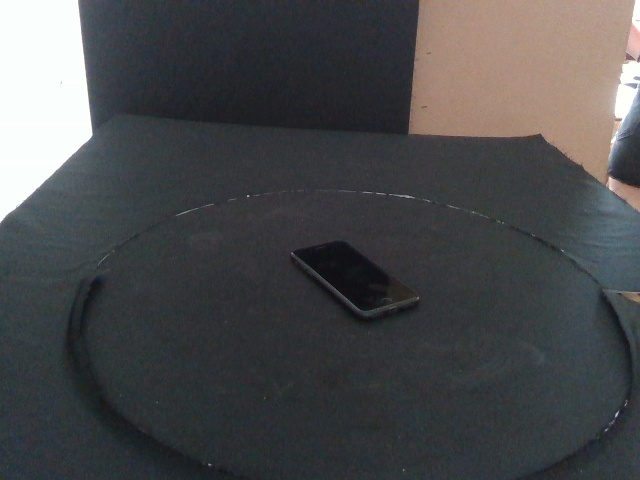phone: (290, 239, 421, 320)
